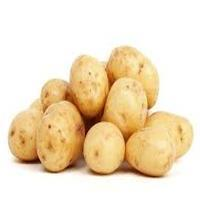biodegradable: (36, 100, 86, 173), (106, 45, 161, 108), (69, 53, 110, 118), (125, 126, 176, 177), (146, 110, 194, 159), (83, 120, 125, 175)
